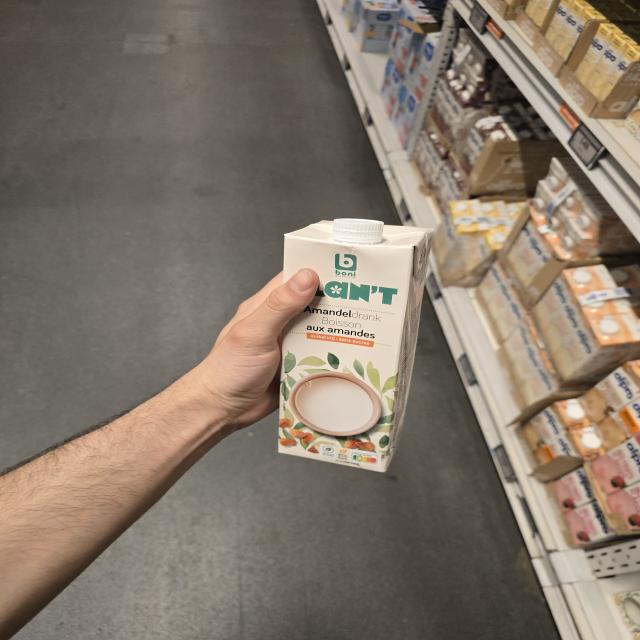Milk: (278, 218, 431, 472)
